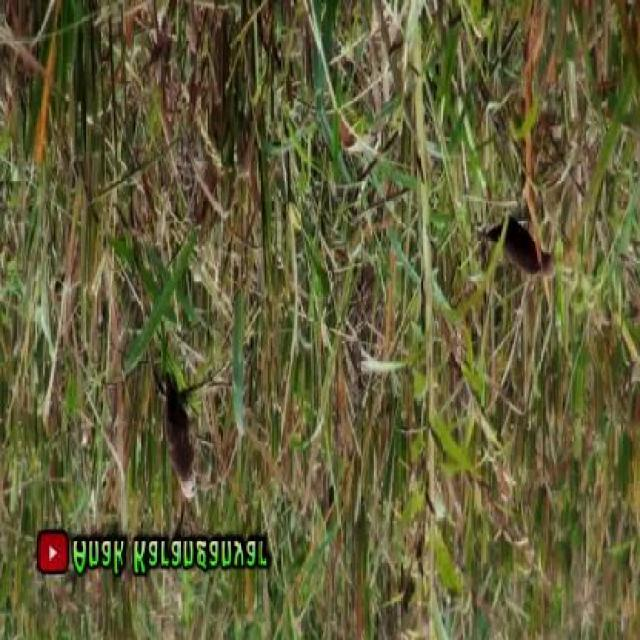Bird: (142, 366, 210, 515), (469, 206, 557, 289)
